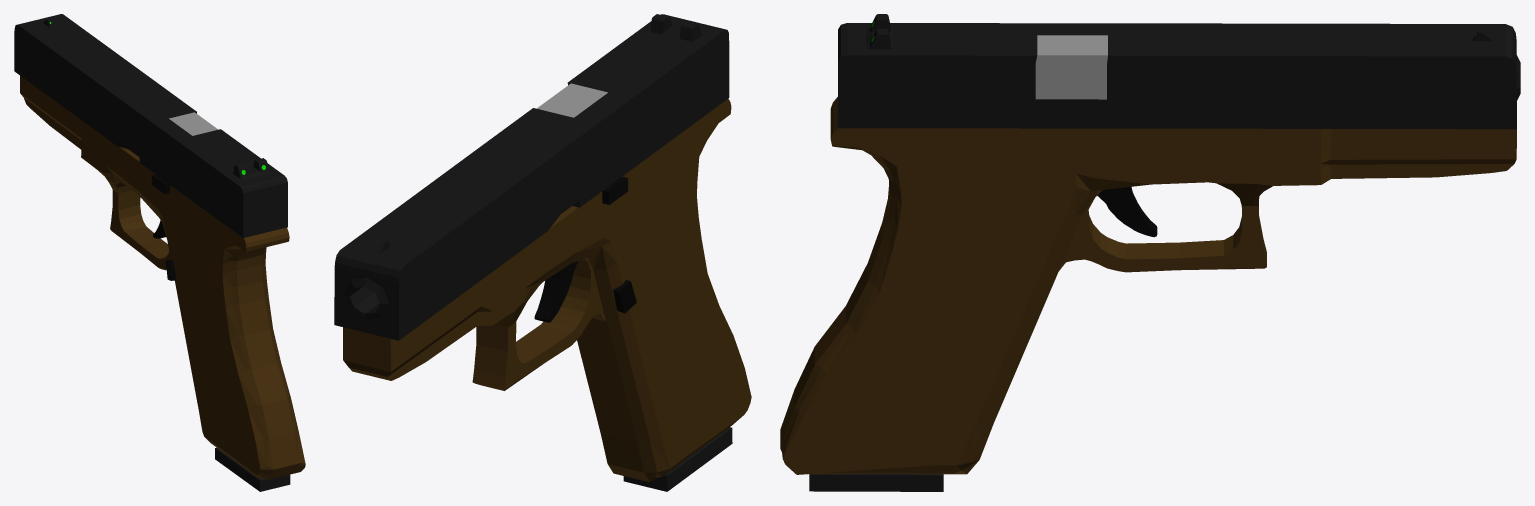
File: w_glock.glb
3 views of the same model, side by side, from view 1: azimuth 30°, elevation 25°; view 2: azimuth 150°, elevation 25°; view 3: azimuth 270°, elevation 25° (orthographic). The views are drawn at different scales.
Visible parts, largest first — view 1: gun, mag; view 2: gun, mag; view 3: gun, mag.
Part boxes in pixels (<box>): gun: <box>14,14,305,479</box>; mag: <box>215,447,290,491</box>; gun: <box>334,14,751,482</box>; mag: <box>623,427,732,491</box>; gun: <box>780,14,1520,474</box>; mag: <box>809,474,943,491</box>.
Bounding box in the file's own units: 0.0449 × 0.2698 × 0.3965.
